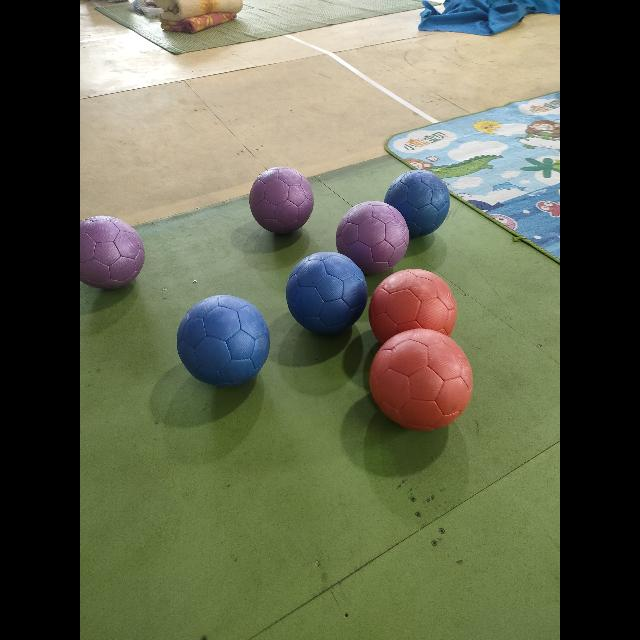B: (176, 296, 270, 386), (286, 252, 368, 334), (385, 170, 449, 237)
P: (336, 202, 408, 274), (80, 216, 144, 288), (249, 167, 313, 233)
R: (370, 328, 472, 429), (368, 269, 458, 347)
